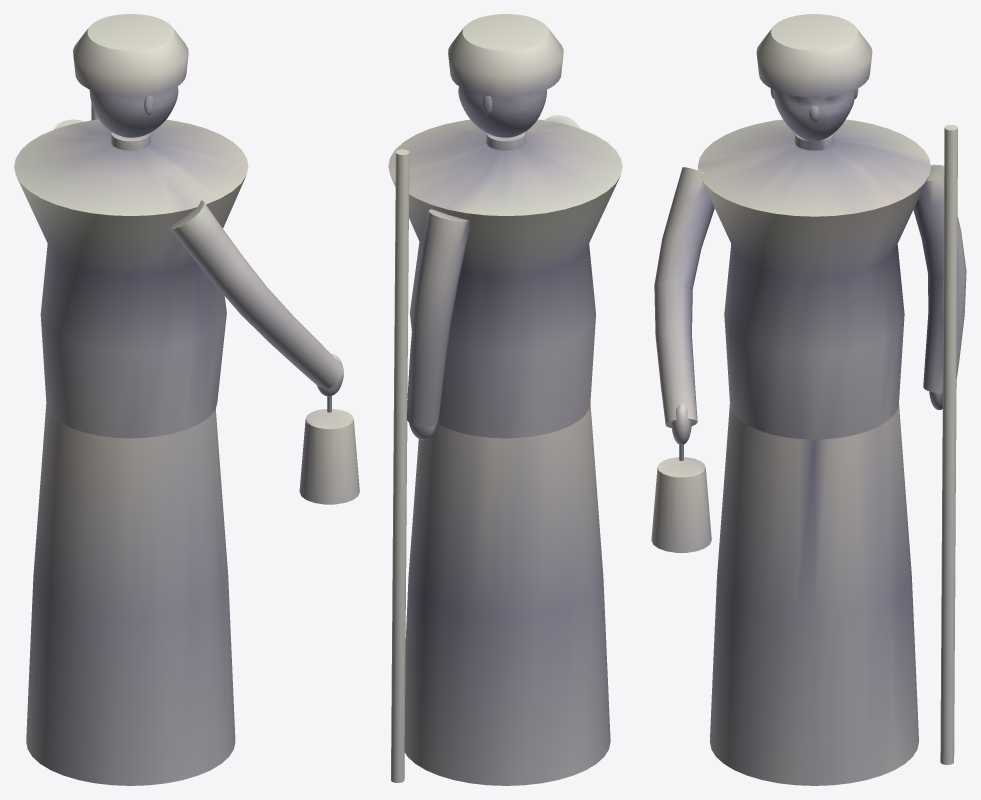
File: bhima.glb
The picture shows the model from 3 angles, left to right: view 1: azimuth 30°, elevation 25°; view 2: azimuth 150°, elevation 25°; view 3: azimuth 270°, elevation 25°; orthographic projection.
Visible parts, largest first — view 1: body; view 2: body; view 3: body.
Boxes of the visible parts, <box> form: body: <box>14,14,359,785</box>; body: <box>388,14,622,785</box>; body: <box>651,14,966,785</box>.
Bounding box in the file's own units: 0.7439 × 1.98 × 0.7829.
